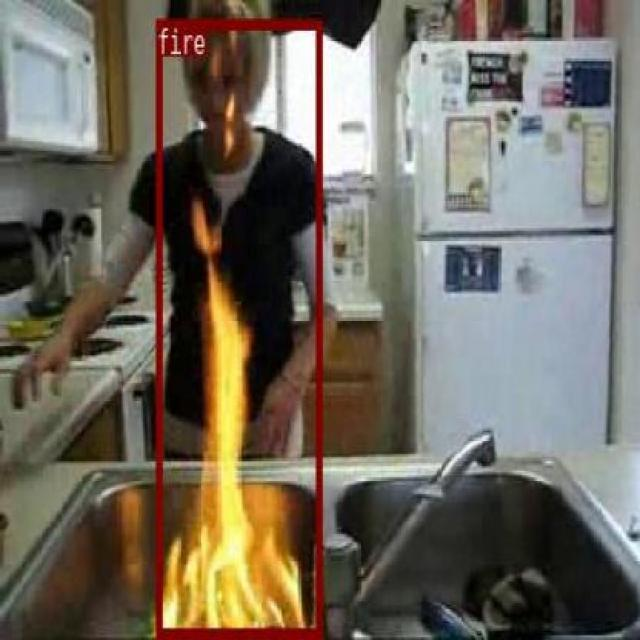Fire: (165, 326, 238, 619)
